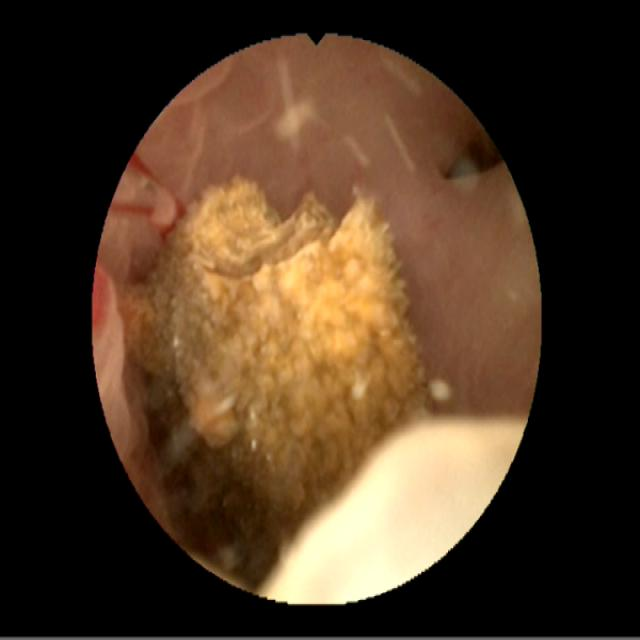stone: (126, 180, 426, 576)
